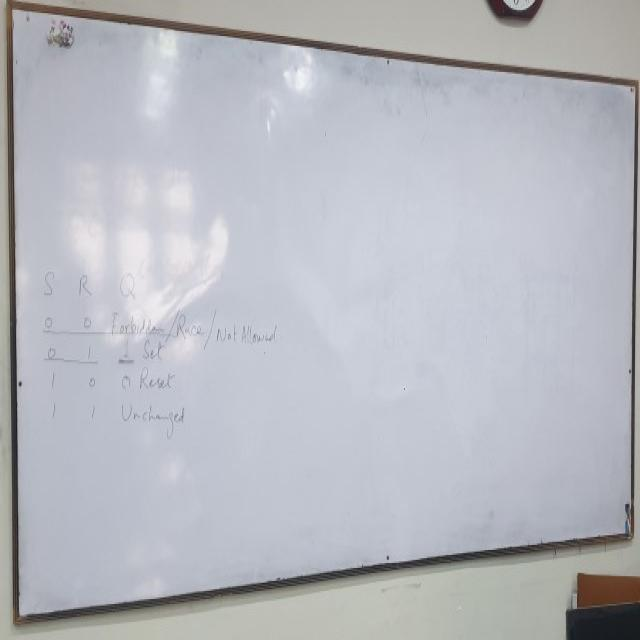White-board: (8, 6, 640, 621)
